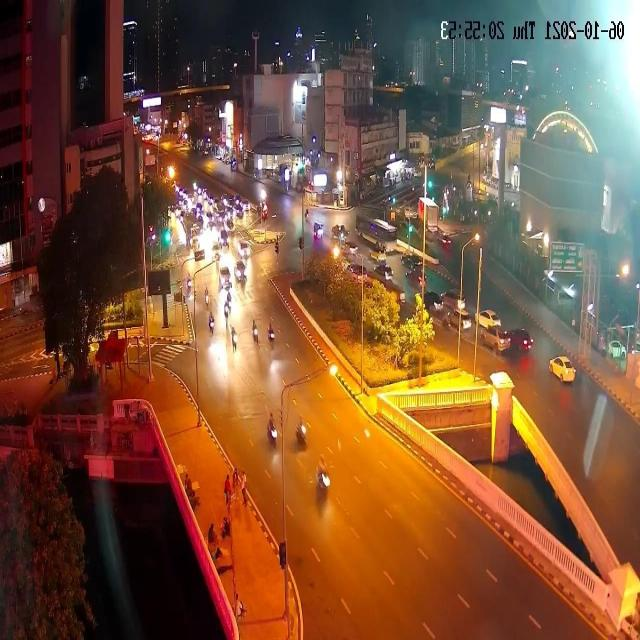Bus: (355, 214, 397, 254)
Car: (480, 325, 510, 354), (548, 354, 577, 384), (511, 326, 534, 352), (442, 289, 467, 310), (475, 308, 502, 327), (449, 310, 472, 330), (401, 253, 425, 271), (423, 292, 443, 313), (373, 261, 393, 280), (406, 269, 428, 286), (220, 266, 232, 294), (234, 260, 247, 284), (348, 264, 368, 279), (237, 241, 251, 259), (368, 248, 386, 262), (218, 229, 229, 249), (343, 241, 358, 253), (216, 212, 226, 225), (205, 211, 214, 224), (196, 202, 205, 214), (235, 206, 244, 218), (234, 195, 242, 206), (242, 202, 250, 210)
Cycle: (267, 410, 281, 453), (293, 416, 309, 444), (316, 466, 332, 493), (230, 326, 238, 354), (266, 322, 276, 344), (252, 319, 259, 346), (208, 310, 215, 337), (204, 285, 210, 309), (226, 292, 232, 316), (224, 300, 228, 326), (187, 272, 191, 297)
Truck: (183, 213, 201, 250)
